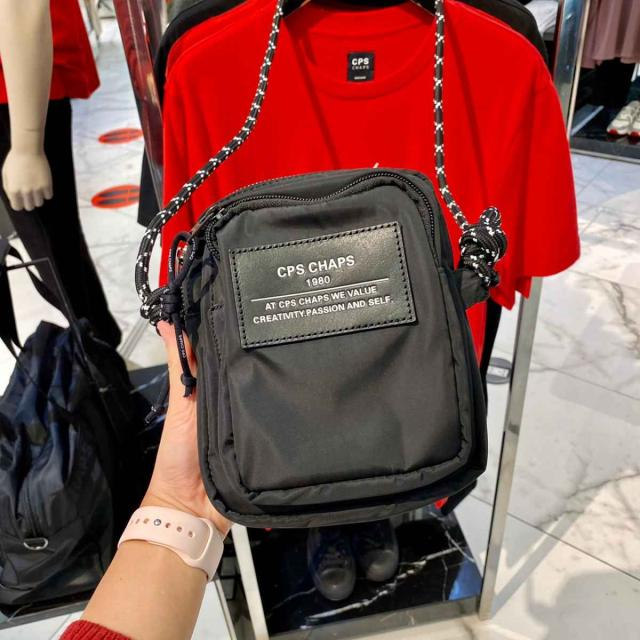Handbag: (137, 149, 503, 542)
